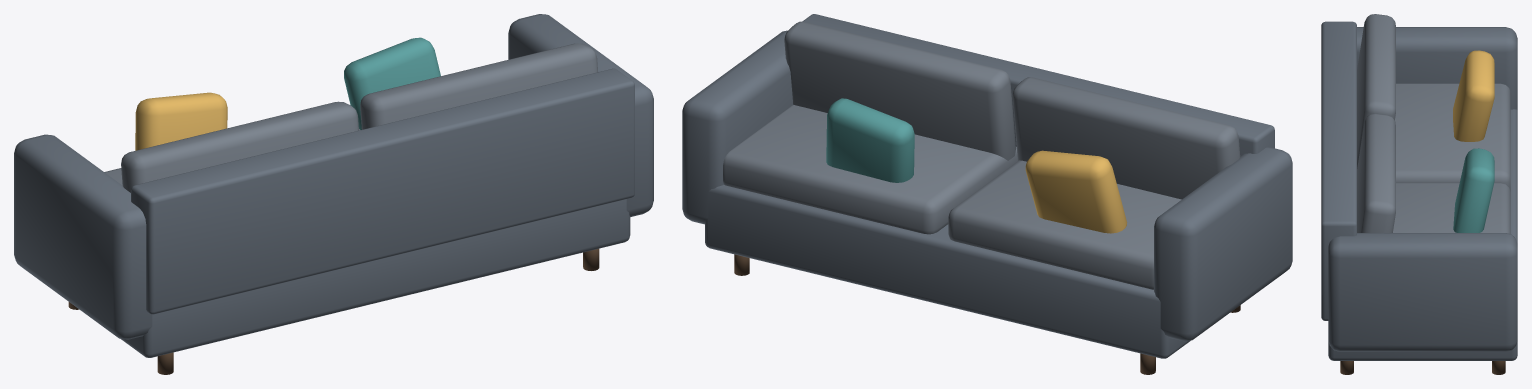
File: sofa.glb
3 views of the same model, side by side, from view 1: azimuth 30°, elevation 25°; view 2: azimuth 150°, elevation 25°; view 3: azimuth 270°, elevation 25° (orthographic). The views are drawn at different scales.
Visible parts, largest first — view 1: Sofa; view 2: Sofa; view 3: Sofa.
Boxes of the visible parts, x1,y1,x2,y2 form: Sofa: (14,14,653,374); Sofa: (682,14,1292,374); Sofa: (1321,14,1517,374).
Size of the model in its own units: 2.66 by 0.9724 by 0.985.
